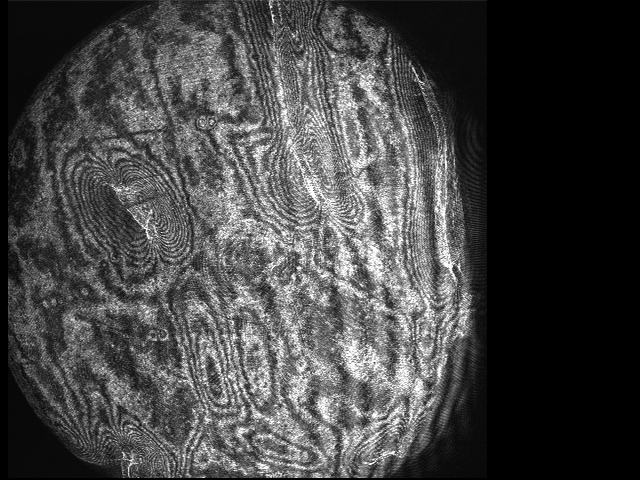plume: (77, 153, 189, 263)
